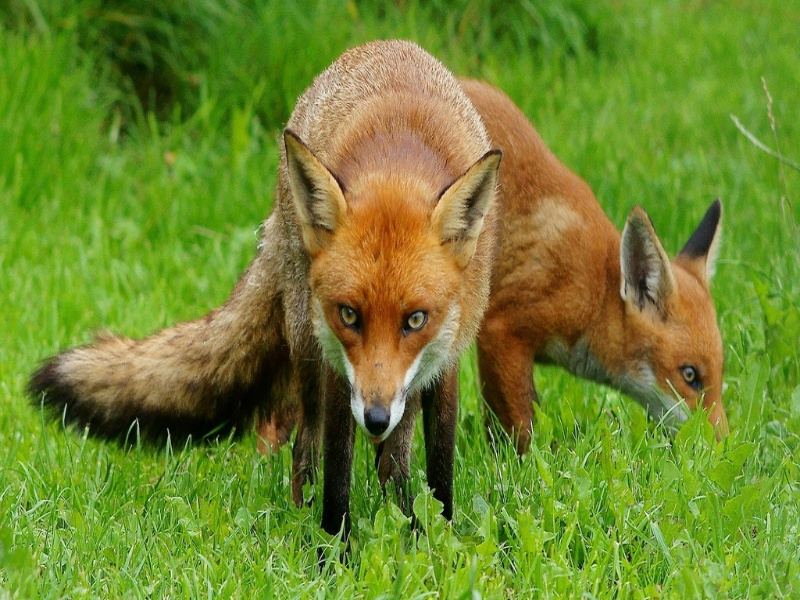fox: (25, 25, 500, 551), (248, 75, 746, 473)
